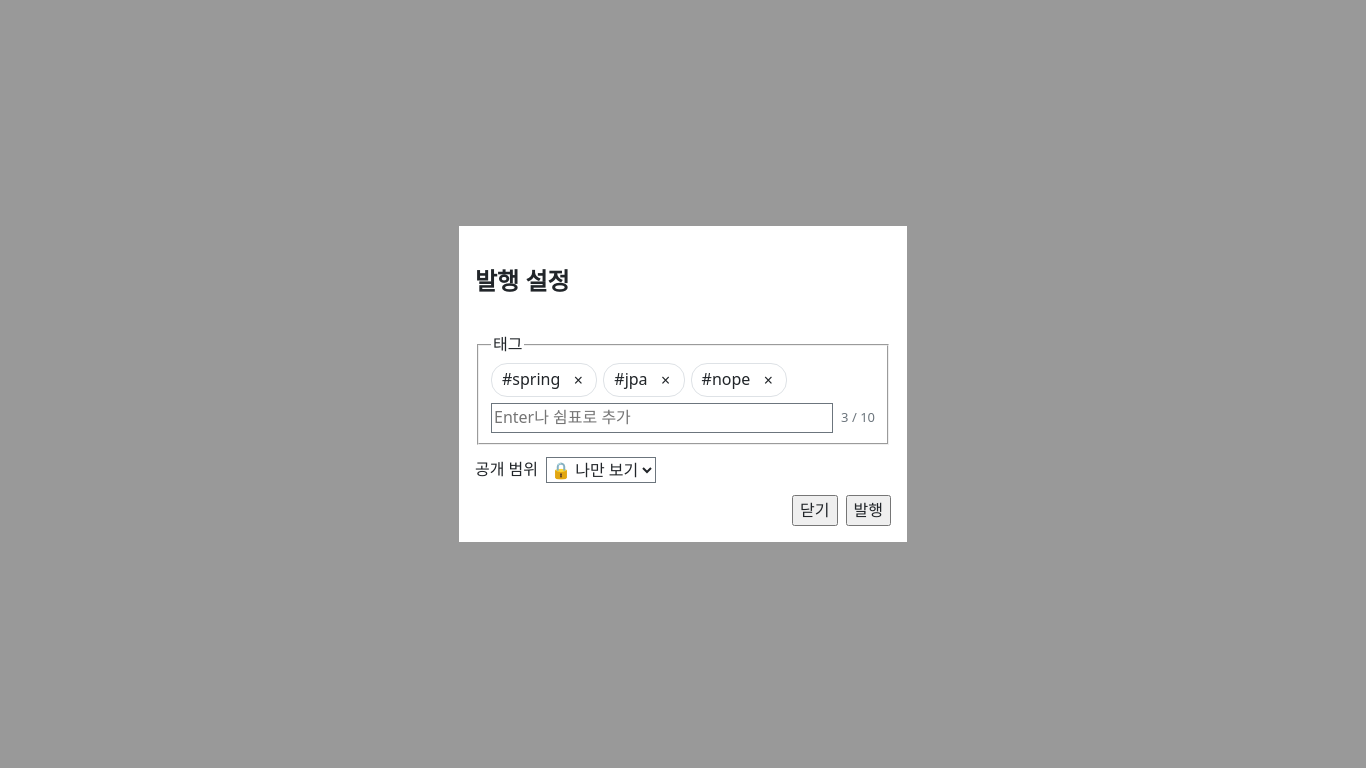
Test: PublishDialog › 400 TAG_BANNED_WORD는 그 칩에만 보이고 다른 칩은 정상이다
Click the button "발행".
click(868, 510)  # box [846, 495, 891, 526]
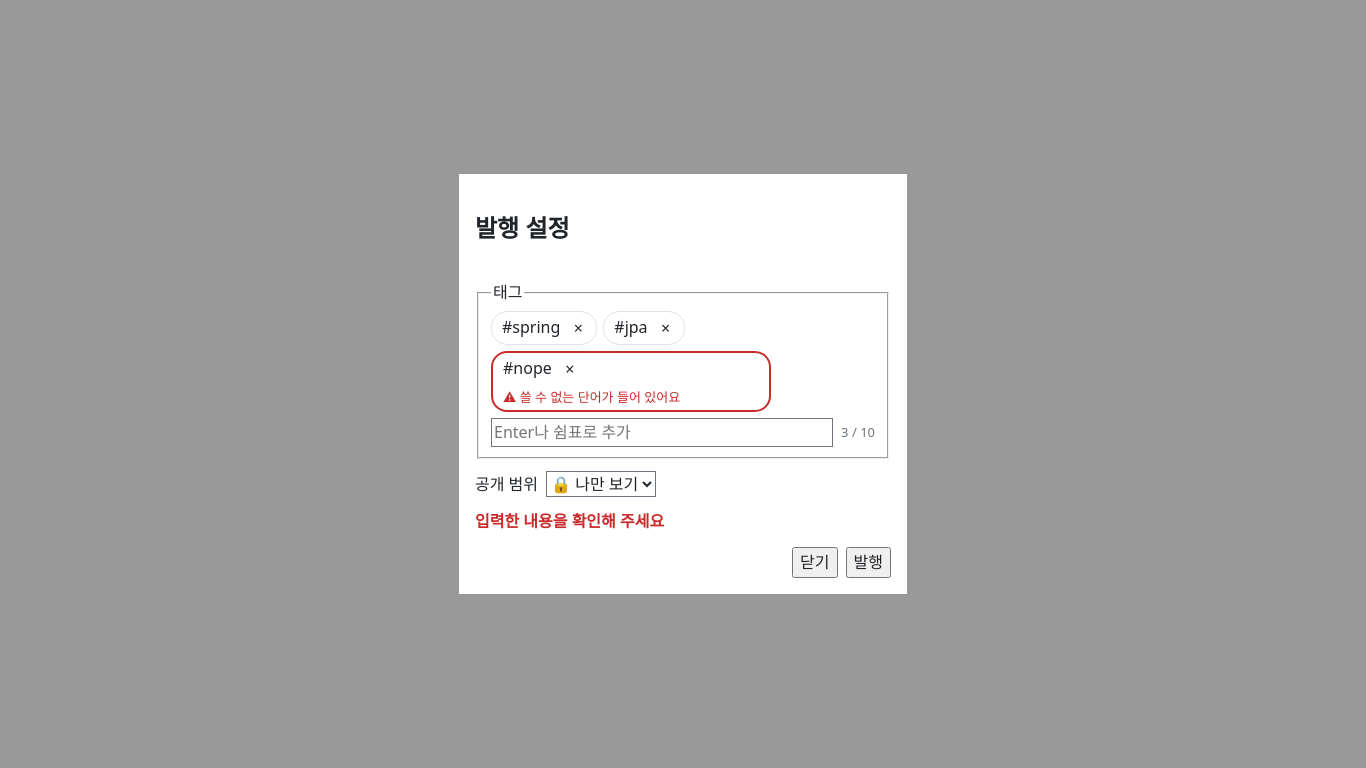
Expected: the list item "쓸 수 없는 단어가 들어 있어요" shows "#nope", [491, 351, 771, 412]
Now the list item "쓸 수 없는 단어가 들어 있어요" shows "⚠", box [503, 388, 520, 406]
